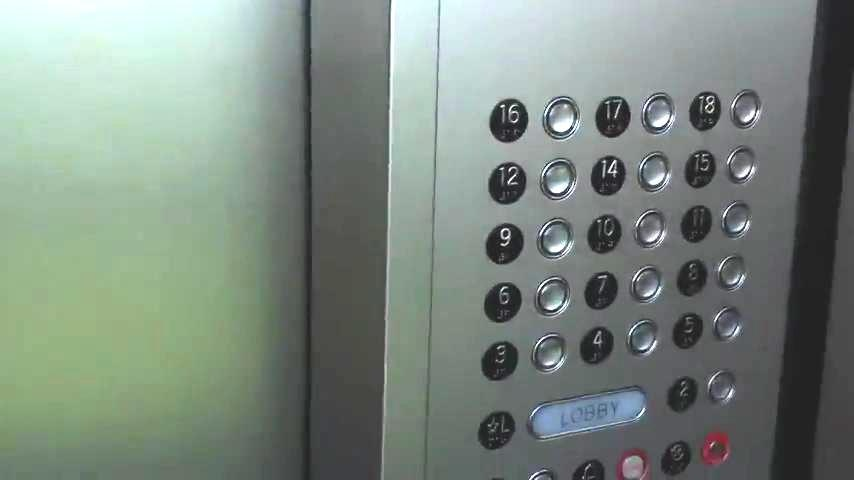10: (586, 213, 625, 256)
11: (679, 204, 713, 244)
12: (486, 160, 528, 206)
14: (589, 155, 630, 197)
15: (683, 150, 718, 190)
16: (488, 97, 530, 144)
17: (593, 93, 633, 139)
18: (688, 90, 722, 131)
2: (664, 375, 701, 419)
3: (480, 339, 522, 383)
4: (578, 324, 618, 368)
5: (670, 309, 706, 354)
6: (483, 281, 523, 323)
7: (581, 268, 618, 313)
8: (675, 257, 711, 298)
9: (484, 221, 525, 264)
empty: (529, 328, 571, 376), (534, 215, 575, 261), (641, 89, 678, 139), (541, 95, 580, 142), (538, 156, 577, 202), (533, 274, 574, 317), (636, 150, 674, 194), (719, 197, 755, 242), (725, 142, 759, 189), (632, 206, 668, 249), (715, 250, 749, 295), (625, 315, 660, 358), (729, 87, 763, 131), (629, 262, 662, 305), (708, 368, 737, 408), (700, 431, 732, 467), (614, 450, 652, 480), (714, 305, 744, 342)
sL: (477, 408, 518, 452)
stop: (660, 439, 695, 476)
